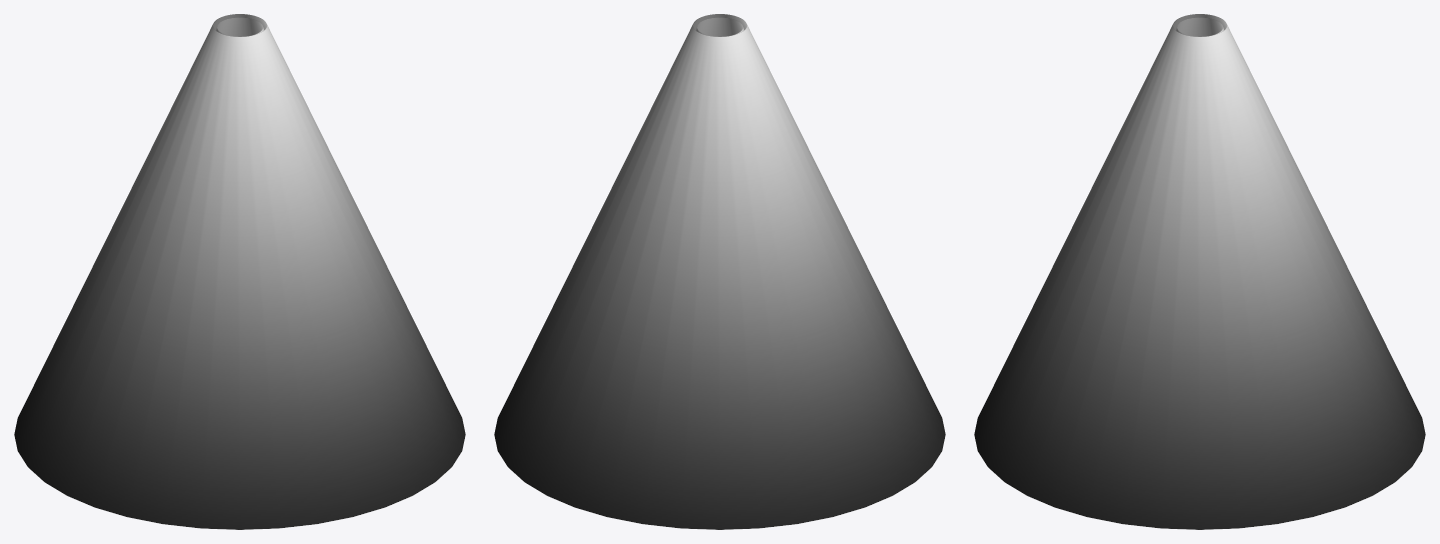
File: LightCone.fbx
The picture shows the model from 3 angles, left to right: view 1: azimuth 30°, elevation 25°; view 2: azimuth 150°, elevation 25°; view 3: azimuth 270°, elevation 25°; orthographic projection.
Parts seen in each view (by area): view 1: Cone; view 2: Cone; view 3: Cone.
Part boxes in pixels (bbox=[...]): Cone: bbox=[14, 14, 465, 529]; Cone: bbox=[494, 14, 945, 529]; Cone: bbox=[974, 14, 1425, 529].
Size of the model in its own units: 2 by 2 by 2.
